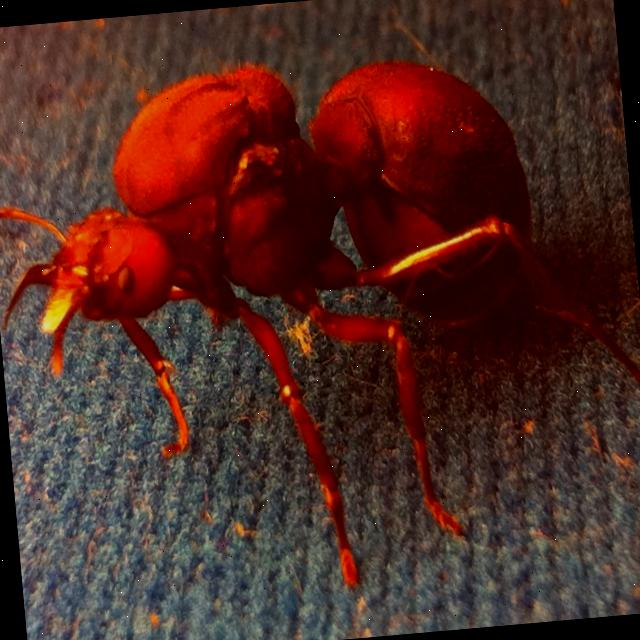Alive-Female-Dealate: (0, 29, 640, 615)
